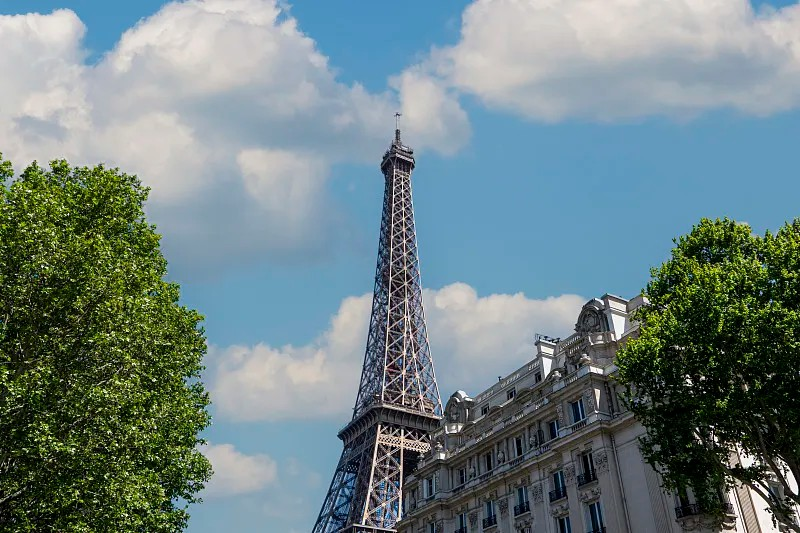Eiffel: (310, 113, 444, 533)
